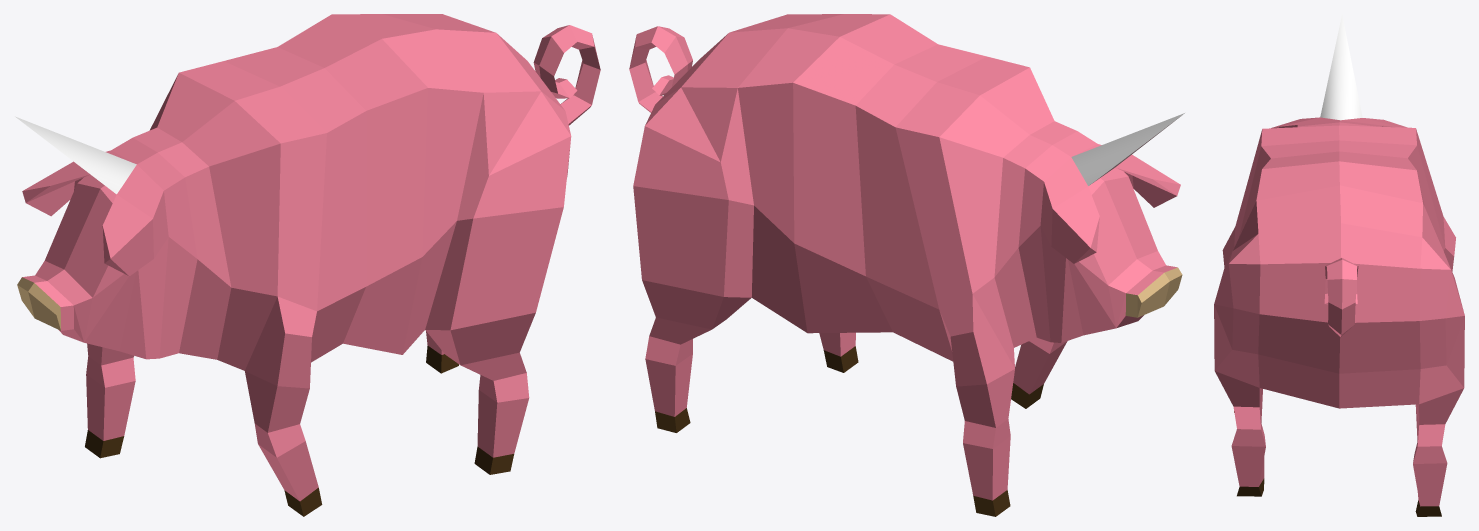
File: pigWalking18.obj
3 views of the same model, side by side, from view 1: azimuth 30°, elevation 25°; view 2: azimuth 150°, elevation 25°; view 3: azimuth 270°, elevation 25° (orthographic). The views are drawn at different scales.
Parts seen in each view (by area): view 1: Pig_Cylinder; view 2: Pig_Cylinder; view 3: Pig_Cylinder.
Boxes of the visible parts, x1,y1,x2,y2 form: Pig_Cylinder: (15, 14, 600, 516); Pig_Cylinder: (629, 14, 1184, 516); Pig_Cylinder: (1214, 14, 1464, 516).
Bounding box in the file's own units: 23.27 × 15.65 × 11.11.
